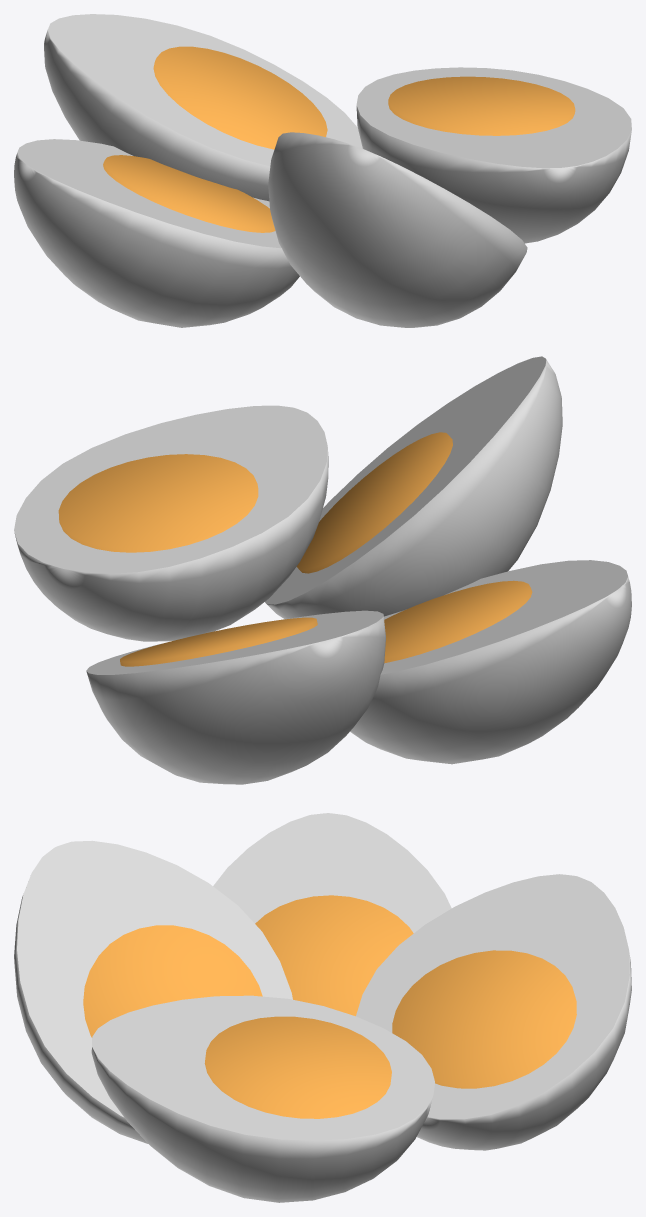
The model's file is overcookedggs1.fbx.
3 views of the same model, one above another, from view 1: azimuth 30°, elevation 25°; view 2: azimuth 150°, elevation 25°; view 3: azimuth 270°, elevation 25° (orthographic). The views are drawn at different scales.
Visible parts, largest first — view 1: Sphere.020, Sphere.014, Sphere.022, Sphere.021, Cylinder.014, Cylinder.015, Cylinder.006; view 2: Sphere.022, Sphere.020, Sphere.021, Sphere.014, Cylinder.015, Cylinder.013, Cylinder.006, Cylinder.014; view 3: Sphere.022, Sphere.021, Sphere.020, Cylinder.014, Sphere.014, Cylinder.015, Cylinder.006, Cylinder.013.
Boxes of the visible parts, bbox=[...] form: Sphere.020: bbox=[268, 132, 527, 327]; Sphere.014: bbox=[14, 139, 299, 327]; Sphere.022: bbox=[356, 67, 631, 243]; Sphere.021: bbox=[44, 14, 362, 201]; Cylinder.014: bbox=[153, 46, 327, 149]; Cylinder.015: bbox=[388, 76, 575, 135]; Cylinder.006: bbox=[103, 155, 275, 232]; Sphere.022: bbox=[14, 405, 328, 641]; Sphere.020: bbox=[265, 356, 562, 618]; Sphere.021: bbox=[86, 610, 385, 784]; Sphere.014: bbox=[350, 560, 631, 764]; Cylinder.015: bbox=[58, 454, 258, 552]; Cylinder.013: bbox=[296, 432, 452, 573]; Cylinder.006: bbox=[384, 580, 532, 663]; Cylinder.014: bbox=[120, 617, 317, 666]; Sphere.022: bbox=[91, 995, 434, 1202]; Sphere.021: bbox=[356, 874, 631, 1150]; Sphere.020: bbox=[14, 840, 292, 1143]; Cylinder.014: bbox=[392, 950, 576, 1088]; Sphere.014: bbox=[213, 813, 451, 932]; Cylinder.015: bbox=[204, 1016, 391, 1118]; Cylinder.006: bbox=[255, 895, 413, 1016]; Cylinder.013: bbox=[83, 925, 262, 1037].
Size of the model in its own units: 237 by 103 by 225.
